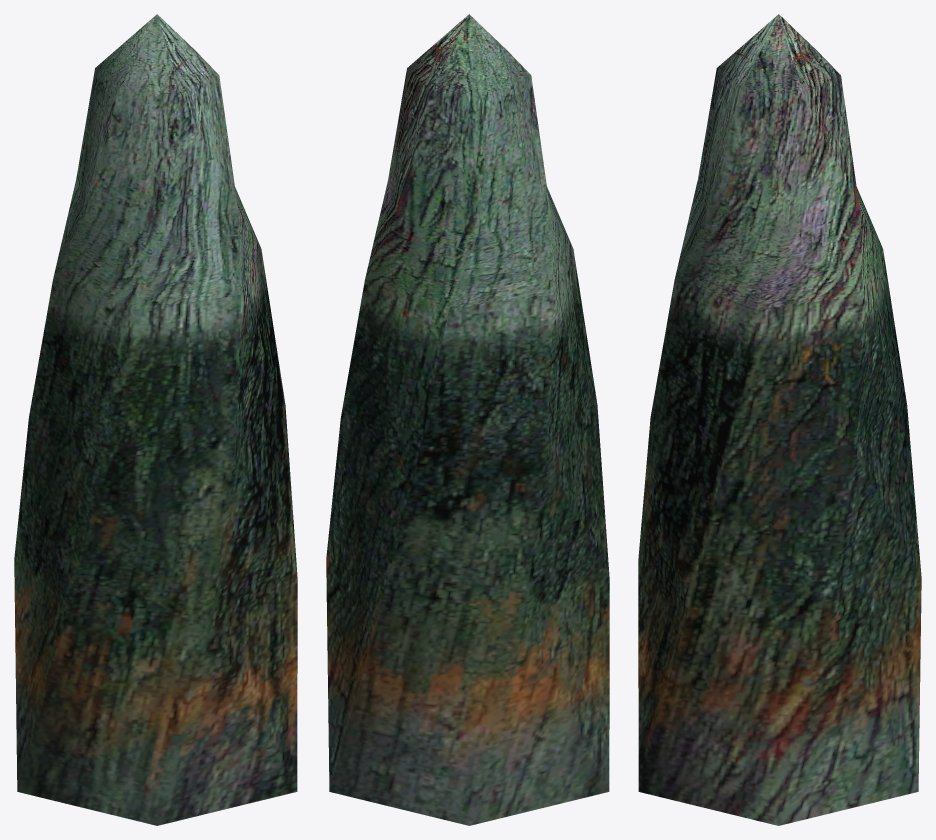
File: decd_treeknee_l0.fbx
3 renders of one model, left to right at view 1: azimuth 30°, elevation 25°; view 2: azimuth 150°, elevation 25°; view 3: azimuth 270°, elevation 25°, orthographic.
Parts seen in each view (by area): view 1: mesh_node; view 2: mesh_node; view 3: mesh_node.
Boxes of the visible parts, x1,y1,x2,y2 form: mesh_node: [14, 14, 297, 825]; mesh_node: [326, 14, 609, 825]; mesh_node: [638, 14, 921, 825].
Bounding box in the file's own units: 2.21 × 5.62 × 1.94.
